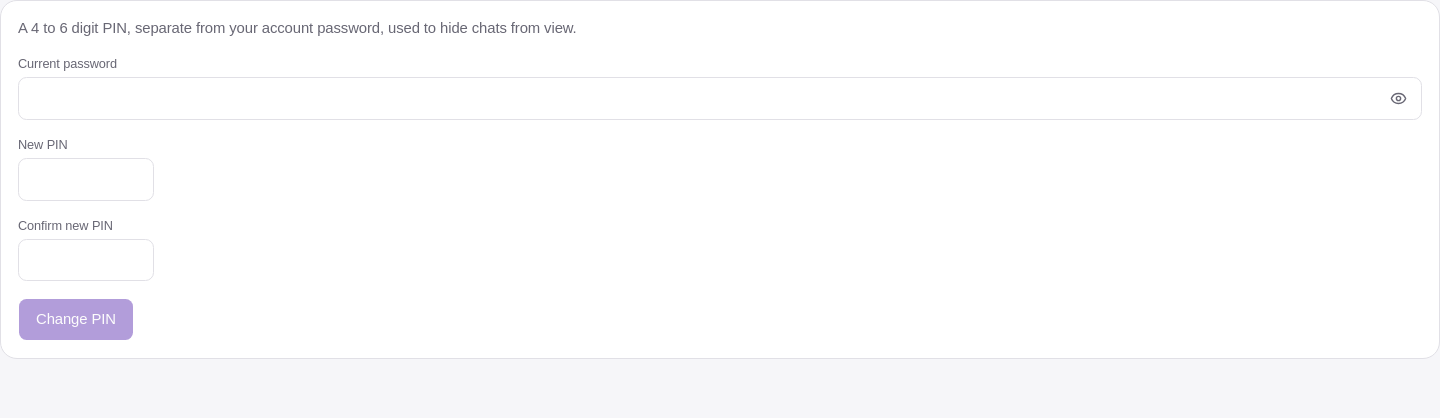
Scenario: HiddenChatsPinForm › shows a backend error on failure
Type "wrongpass" into the password field labelled "Current password". click: (720, 99)
box: [18,78,1422,120]
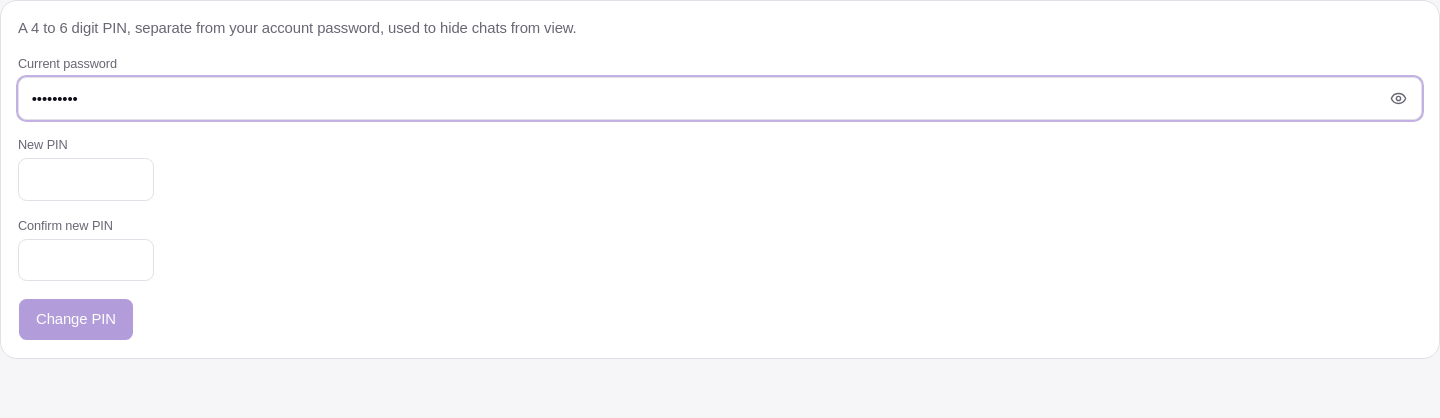
Type "4321" into the password field labelled "New PIN". click: (86, 179)
box: [18,158,154,201]
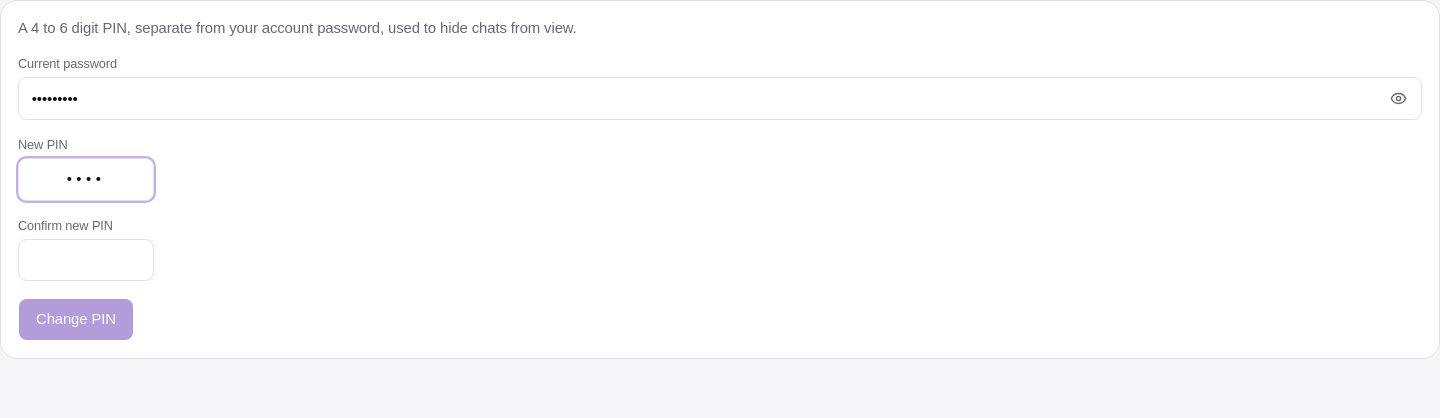
Type "4321" into the password field labelled "Confirm new PIN". click: (86, 260)
box: [18,239,154,282]
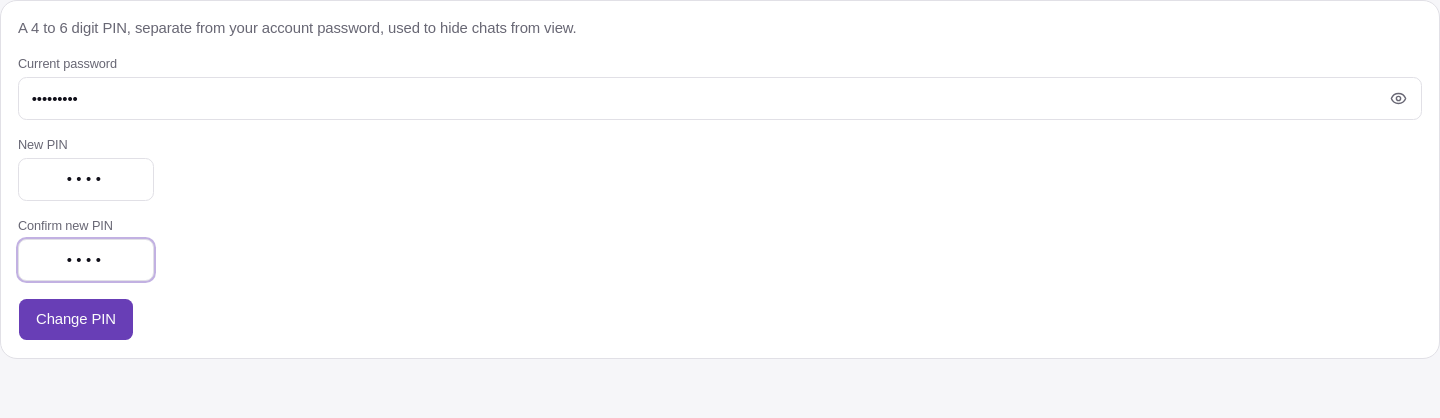
Click the button "Change PIN". click: click(76, 320)
box: [18,298,134,341]
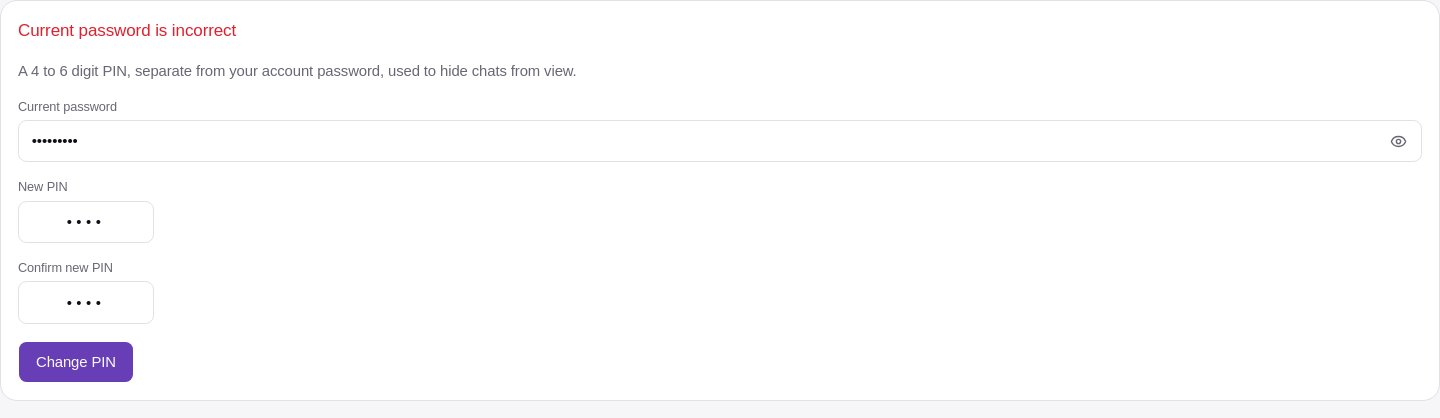
Result: the text "Current password is incorrect" is shown at [18,21,236,40]
